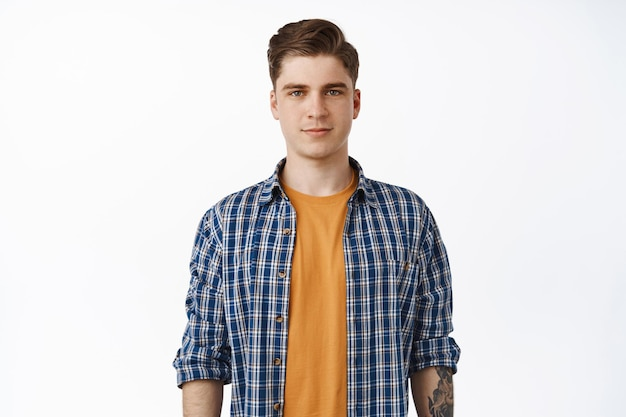teen: (258, 4, 369, 172)
